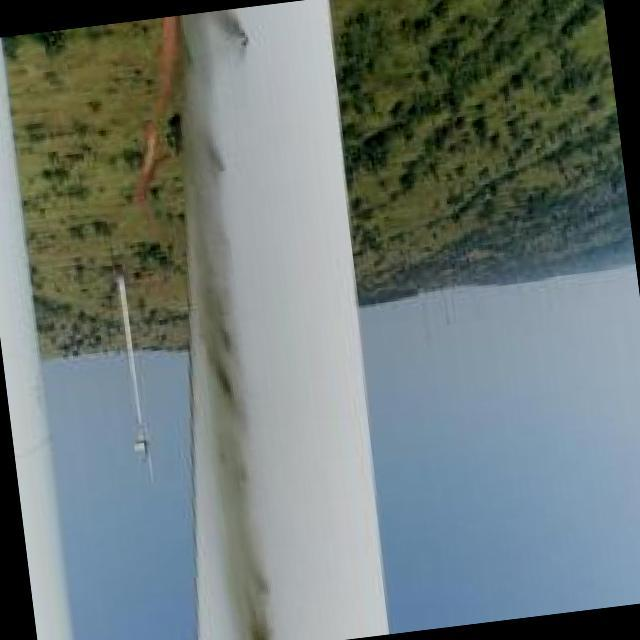Dirt: (190, 12, 273, 640)
Pin Hole: (238, 29, 252, 50)
